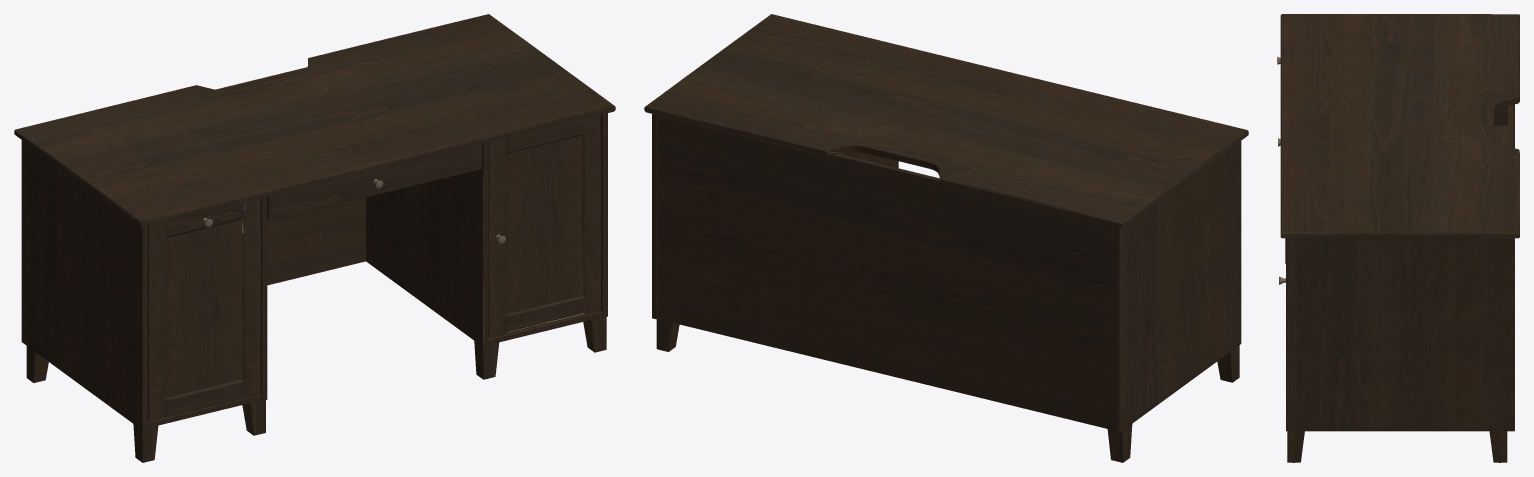
The model's file is IDANÄS desk.glb.
3 renders of one model, left to right at view 1: azimuth 30°, elevation 25°; view 2: azimuth 150°, elevation 25°; view 3: azimuth 270°, elevation 25°, orthographic. The views are drawn at different scales.
Visible parts, largest first — view 1: 60514153-IDANÃƒâ€žS001; view 2: 60514153-IDANÃƒâ€žS001; view 3: 60514153-IDANÃƒâ€žS001.
Part boxes in pixels (x1,y1,x2,y2): 60514153-IDANÃƒâ€žS001: (14,14,615,462); 60514153-IDANÃƒâ€žS001: (644,14,1248,462); 60514153-IDANÃƒâ€žS001: (1277,14,1519,462).
Bounding box in the file's own units: 1.52 × 0.7554 × 0.7108.
Materials: 1 (1 with a texture image).
